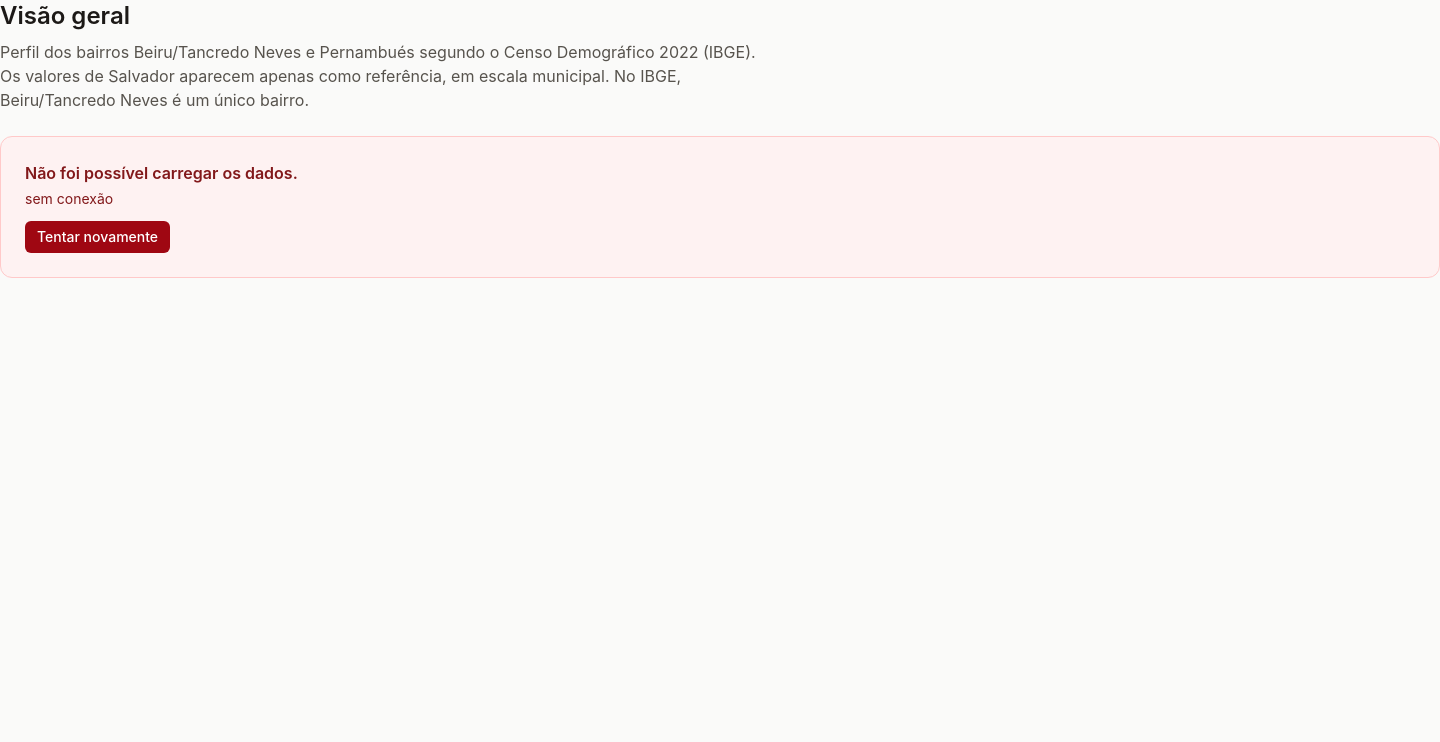
Test: VisaoGeral › mostra erro com opção de tentar novamente
Expected: the message shows "sem conexão", left=25, top=190, right=113, bottom=207
Click the button "Tentar novamente": [98, 237] box left=25, top=221, right=170, bottom=253
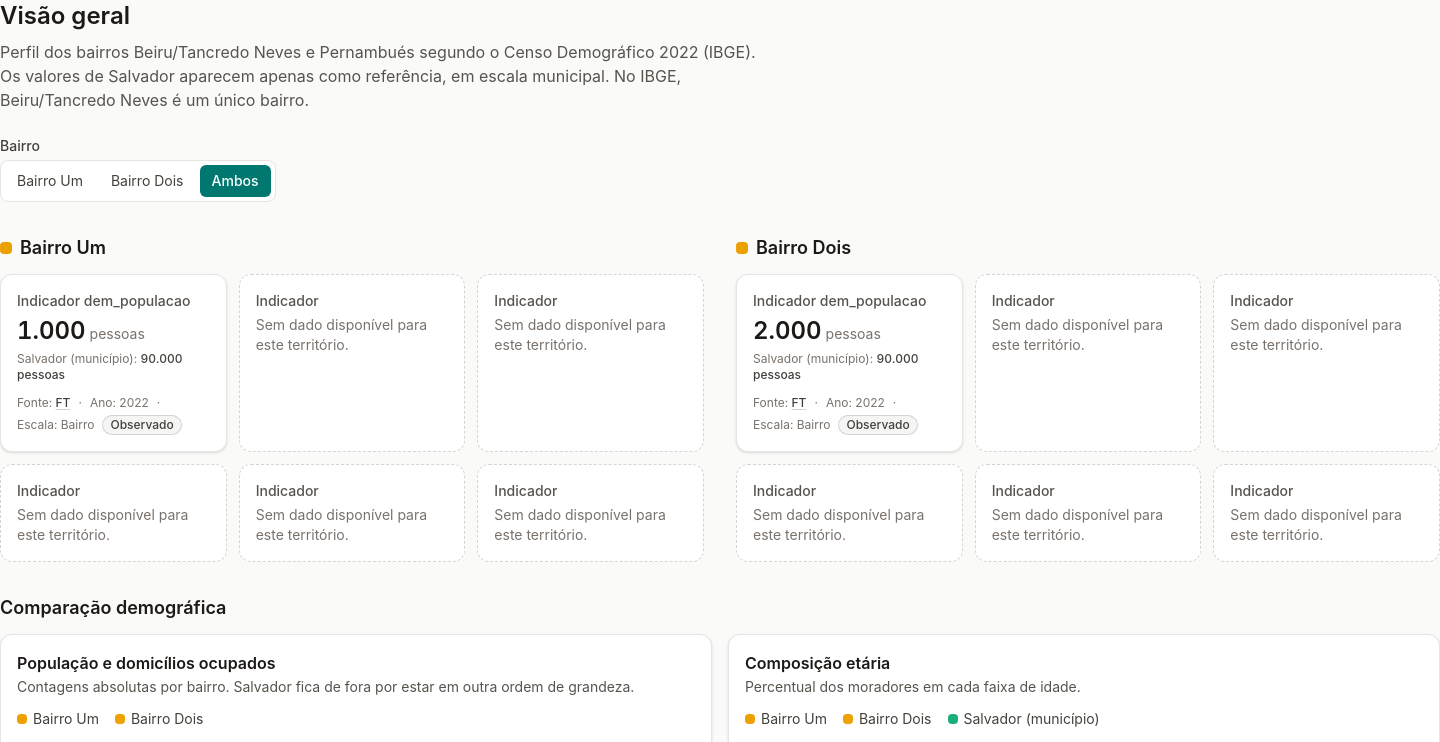
Now the heading "Bairro Um" is shown, box left=0, top=237, right=106, bottom=258
